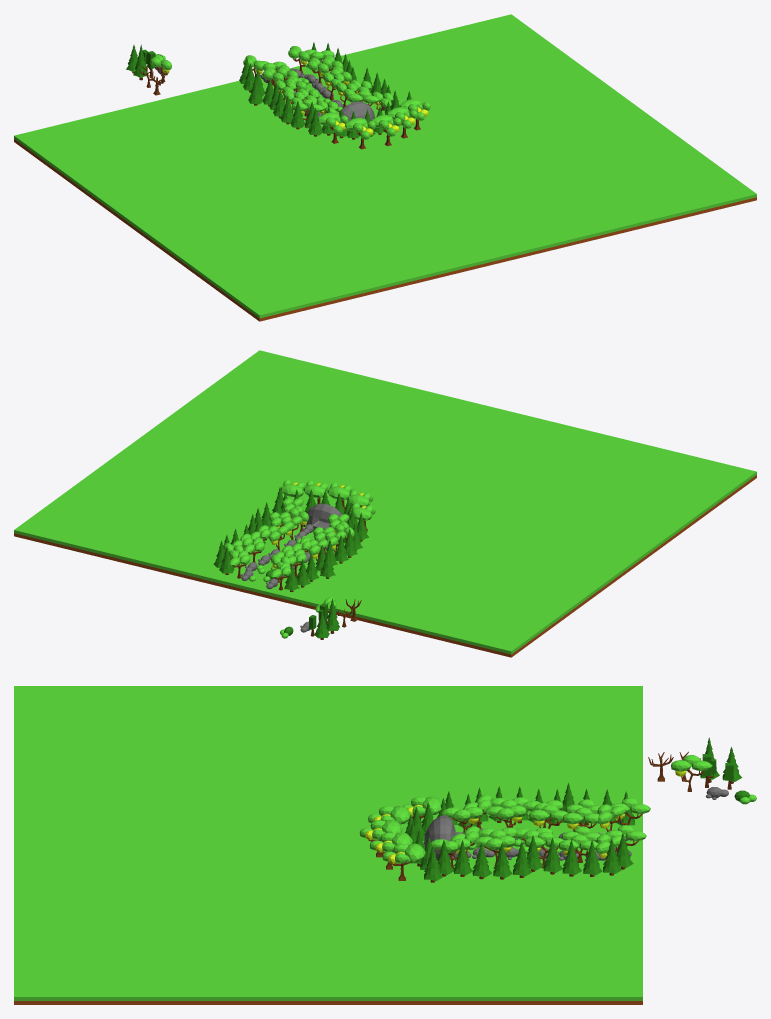
File: endModel.fbx
The picture shows the model from 3 angles, top to bottom: view 1: azimuth 30°, elevation 25°; view 2: azimuth 150°, elevation 25°; view 3: azimuth 270°, elevation 25°; orthographic projection. The views are drawn at different scales.
Parts seen in each view (by area): view 1: Cube; view 2: Cube, Cube.001; view 3: Cube, Cube.001.
Boxes of the visible parts, left/top/right/bottom form: Cube: left=14, top=14, right=756, bottom=321; Cube: left=14, top=350, right=756, bottom=657; Cube.001: left=306, top=503, right=341, bottom=530; Cube: left=14, top=686, right=756, bottom=1004; Cube.001: left=424, top=815, right=455, bottom=860.
Bounding box in the file's own units: 32313 × 3026 × 32641.
